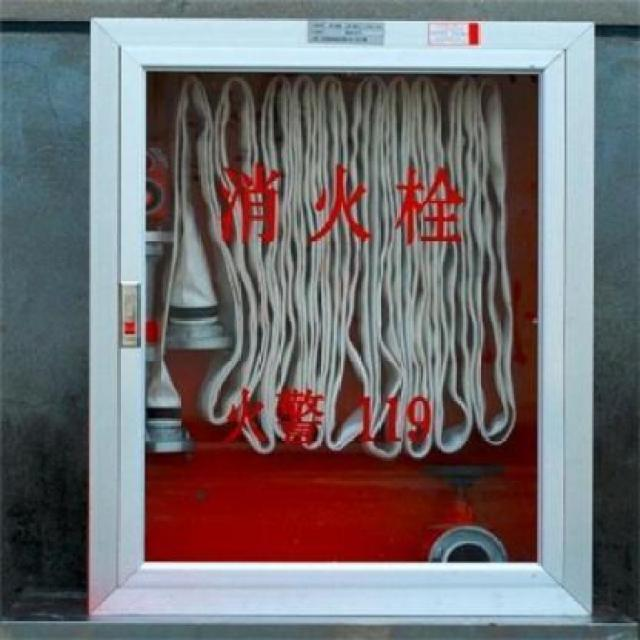firehydrant: (87, 15, 598, 624)
